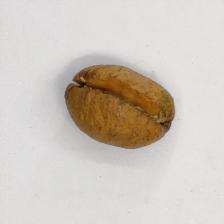NG: (77, 64, 167, 133)
